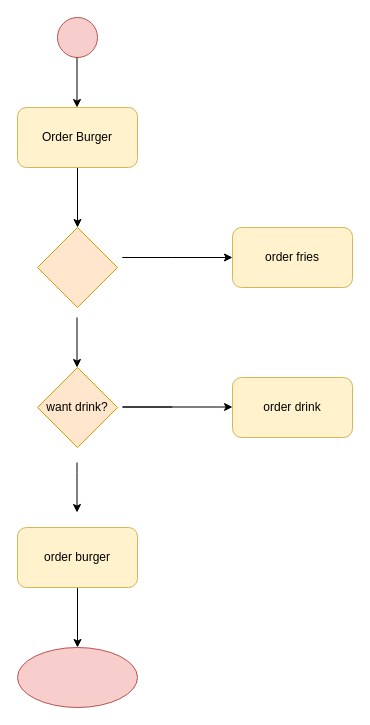
Some shapes in this 370 by 725 pixel diagram are drawn without their labels. The shapes that lost their labels are listed below. From the top down, each one's centre as x and y in pixels, then its label:
the point at 77,267: want fries?
the point at 77,677: end
